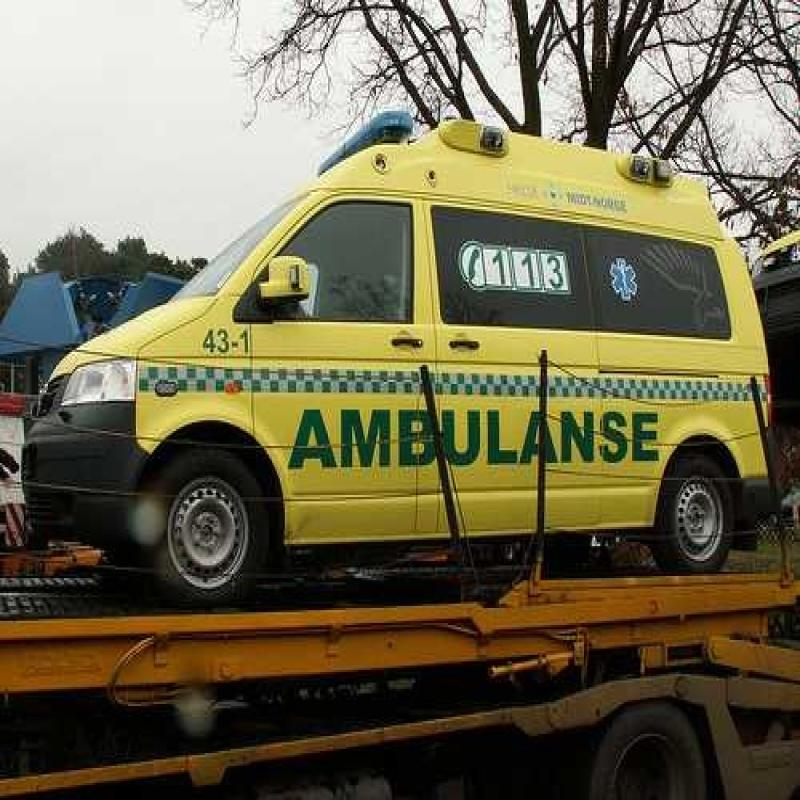AmbulanceSiren: (295, 110, 414, 169)
